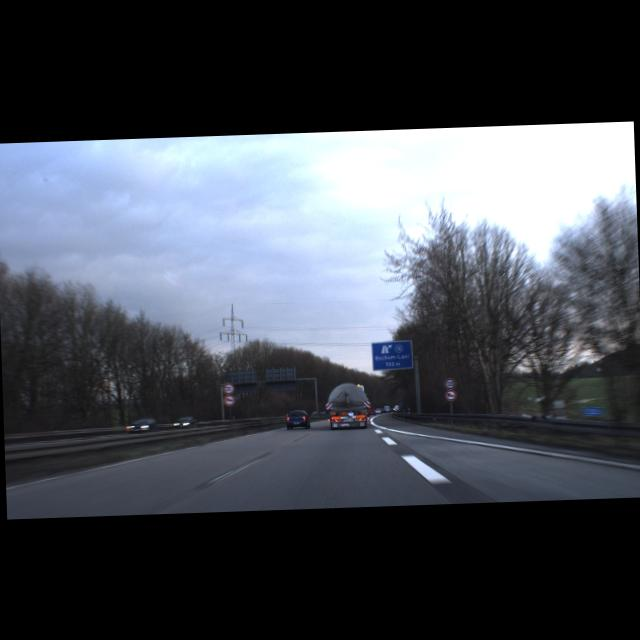prohibitory: (443, 389, 456, 402), (222, 394, 235, 406), (221, 383, 234, 394), (444, 378, 456, 389)
